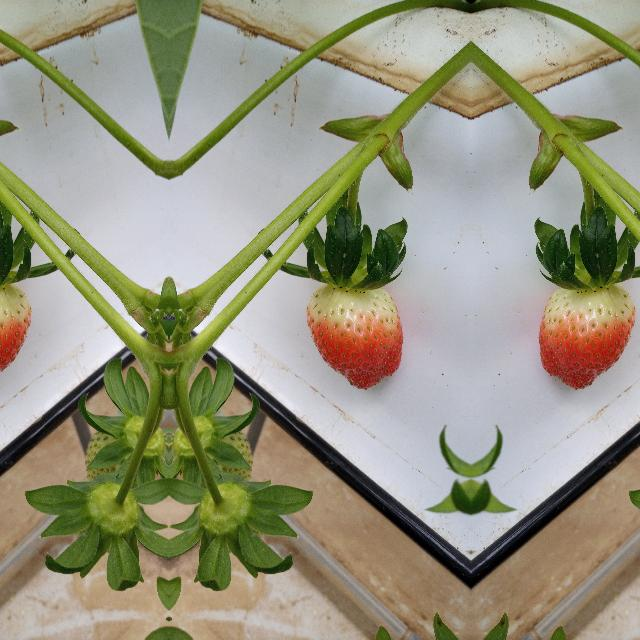Health_75: (305, 282, 403, 390), (538, 282, 636, 390), (0, 282, 31, 389)
